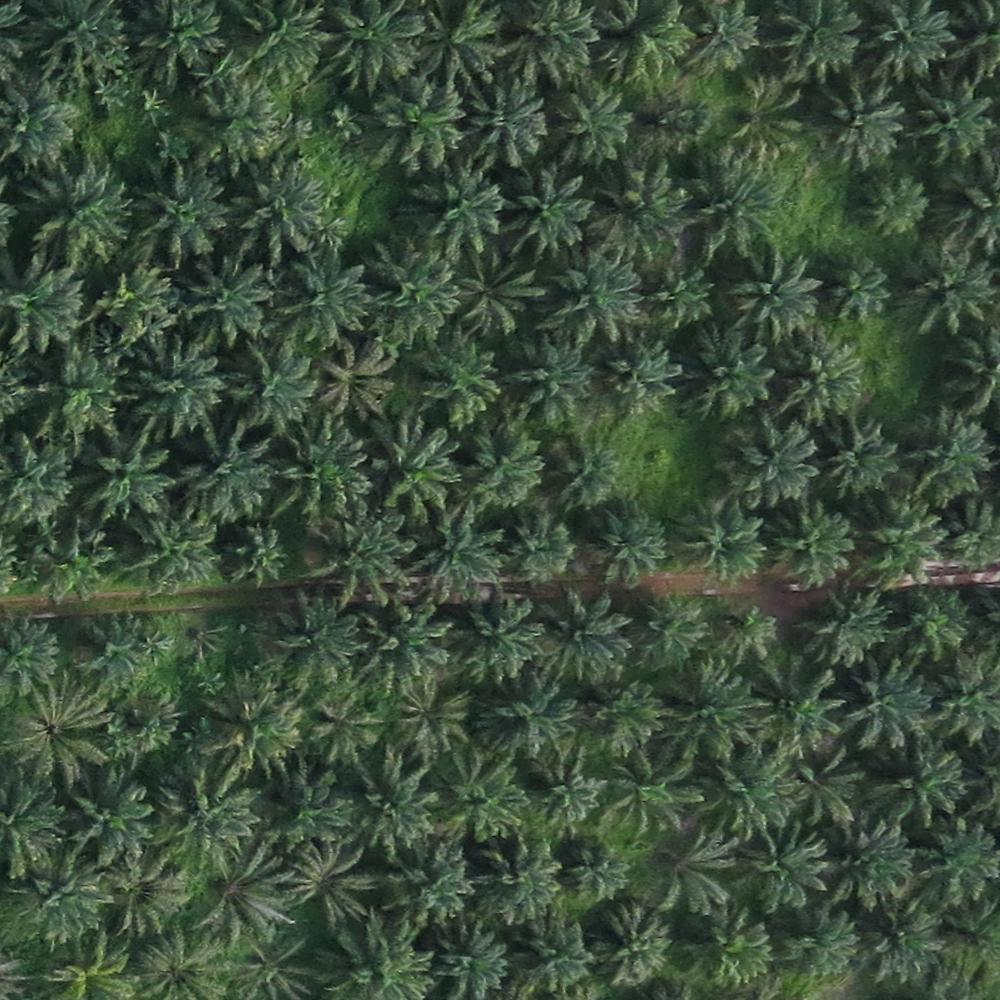Palm: (4, 679, 110, 783), (28, 165, 131, 266), (355, 240, 455, 343), (684, 147, 781, 251), (583, 164, 683, 264), (197, 679, 298, 773), (322, 916, 434, 1000), (152, 776, 251, 871), (341, 758, 435, 858), (311, 514, 412, 607), (123, 342, 224, 435), (275, 426, 373, 521), (533, 586, 632, 680), (434, 750, 528, 849), (725, 418, 823, 512), (131, 169, 232, 260), (260, 598, 360, 689), (579, 899, 680, 989), (900, 406, 990, 506), (413, 166, 502, 266), (76, 433, 173, 524), (680, 330, 775, 421), (280, 250, 372, 342), (367, 426, 458, 519), (354, 604, 450, 692), (546, 257, 637, 349), (663, 664, 753, 757), (174, 433, 265, 524), (748, 665, 844, 751), (902, 241, 991, 333), (502, 339, 596, 426), (225, 341, 317, 429), (233, 167, 322, 257), (63, 776, 153, 865), (501, 167, 588, 259), (456, 88, 548, 174), (878, 742, 966, 831), (31, 347, 117, 438), (738, 825, 832, 908), (841, 659, 929, 747), (802, 586, 891, 673), (913, 824, 996, 917), (368, 85, 457, 171), (457, 256, 547, 341), (474, 841, 566, 924), (227, 5, 321, 86), (777, 330, 864, 417), (180, 260, 268, 346), (325, 5, 414, 90), (615, 751, 705, 835), (411, 518, 501, 602), (455, 597, 547, 679), (860, 493, 944, 582), (734, 252, 820, 338), (481, 680, 572, 761), (599, 2, 691, 82), (134, 2, 226, 82), (378, 681, 472, 759), (817, 409, 903, 494), (510, 3, 596, 87), (185, 88, 271, 172), (821, 81, 905, 166), (679, 501, 767, 581), (835, 825, 915, 913), (773, 907, 862, 986), (3, 80, 80, 171), (417, 2, 503, 83), (505, 914, 592, 994), (591, 340, 681, 417), (914, 80, 996, 164), (418, 347, 503, 428), (652, 835, 739, 914), (454, 430, 542, 507), (774, 2, 858, 82), (4, 268, 82, 354), (315, 341, 400, 419), (713, 756, 796, 835), (870, 2, 954, 80), (888, 589, 973, 665), (689, 918, 774, 993), (927, 660, 1000, 744), (772, 510, 854, 584), (640, 262, 722, 335), (590, 509, 668, 585), (497, 514, 582, 583), (865, 908, 942, 984), (551, 94, 629, 168), (584, 688, 664, 760), (545, 441, 619, 512), (635, 594, 704, 665), (791, 761, 862, 829), (861, 172, 930, 241), (533, 766, 605, 829), (829, 261, 890, 324), (565, 842, 630, 897)
